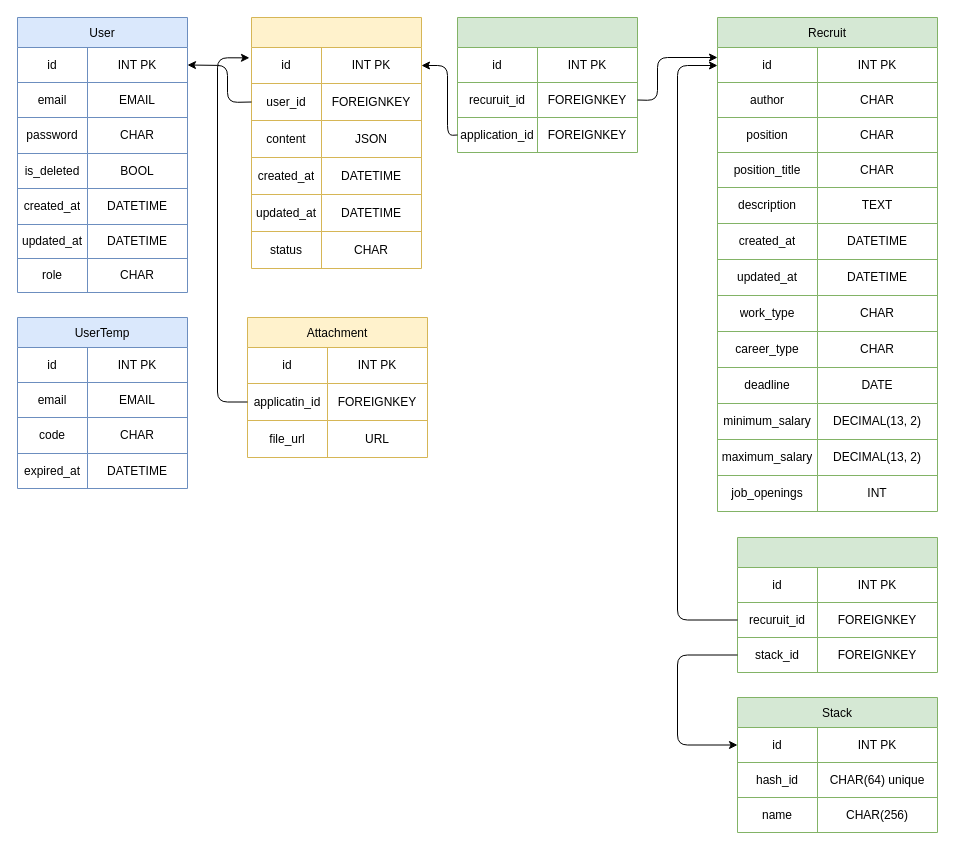
Some shapes in this 955 by 850 pixel diagram are drawn without their labels. The box of each missing label's shape, as (x1, y1, x2, y2) in pixels:
Application: (250, 16, 422, 268)
RecruitApplication: (456, 16, 638, 152)
RecruitStack: (736, 536, 938, 672)
